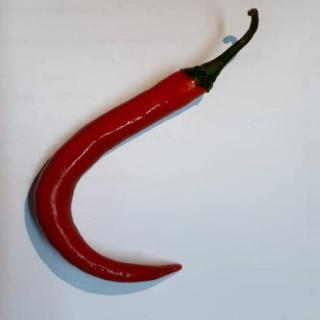Cabai Merah: (29, 10, 261, 284)
